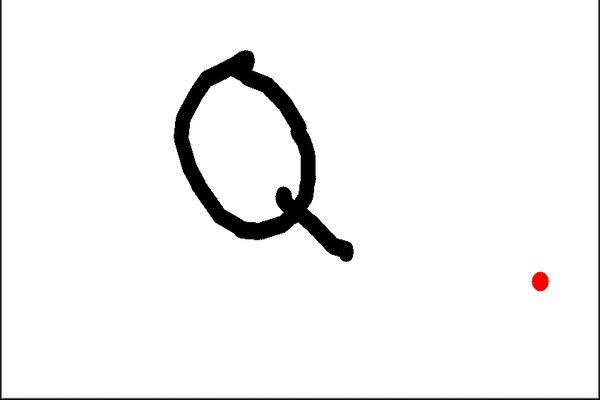Q: (148, 44, 367, 269)
